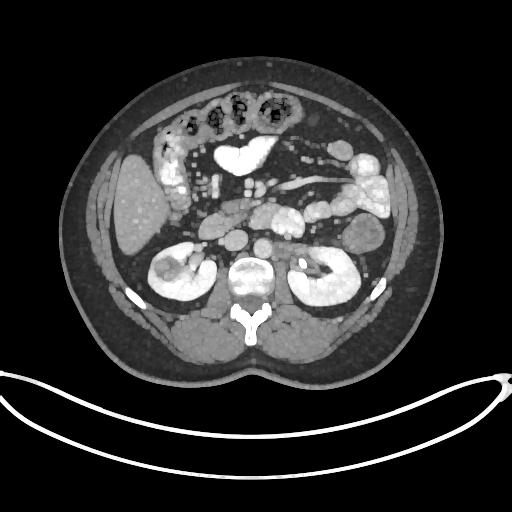Lesion: (152, 254, 185, 284)
